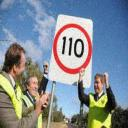speed_limit_110: (48, 11, 94, 90)
